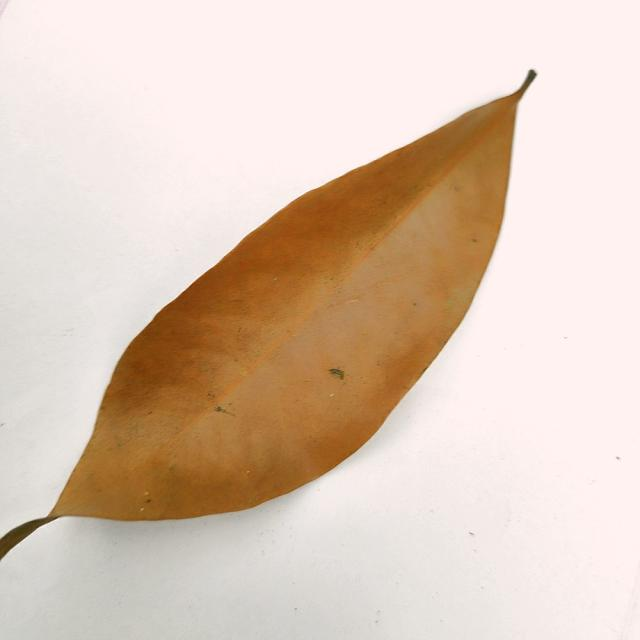Dry_Leaf-Lychee: (0, 72, 536, 561)
